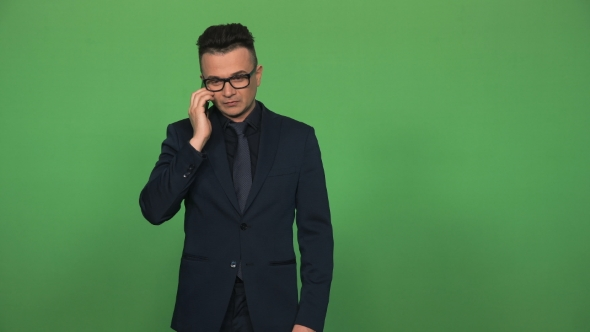phone: (190, 79, 214, 115)
talk: (190, 66, 256, 137)
